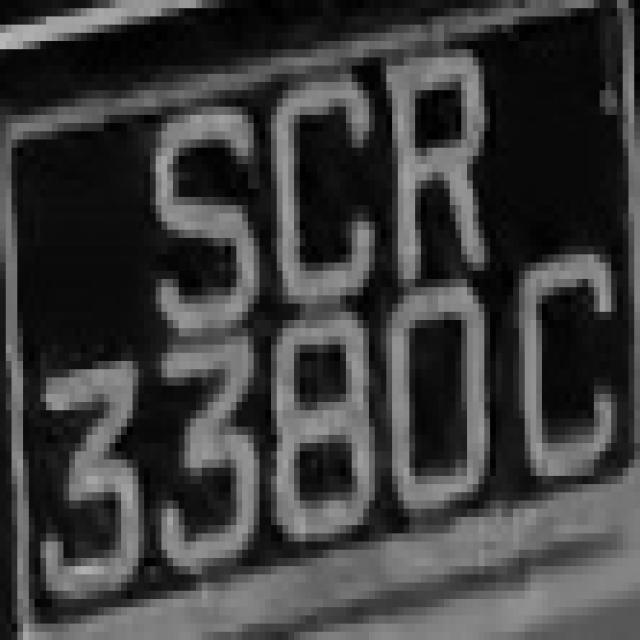0: (386, 279, 496, 542)
3: (17, 336, 144, 599), (156, 304, 260, 590)
8: (271, 295, 386, 558)
C: (254, 57, 380, 320), (507, 222, 617, 508)
R: (363, 33, 496, 295)
S: (133, 74, 265, 353)
